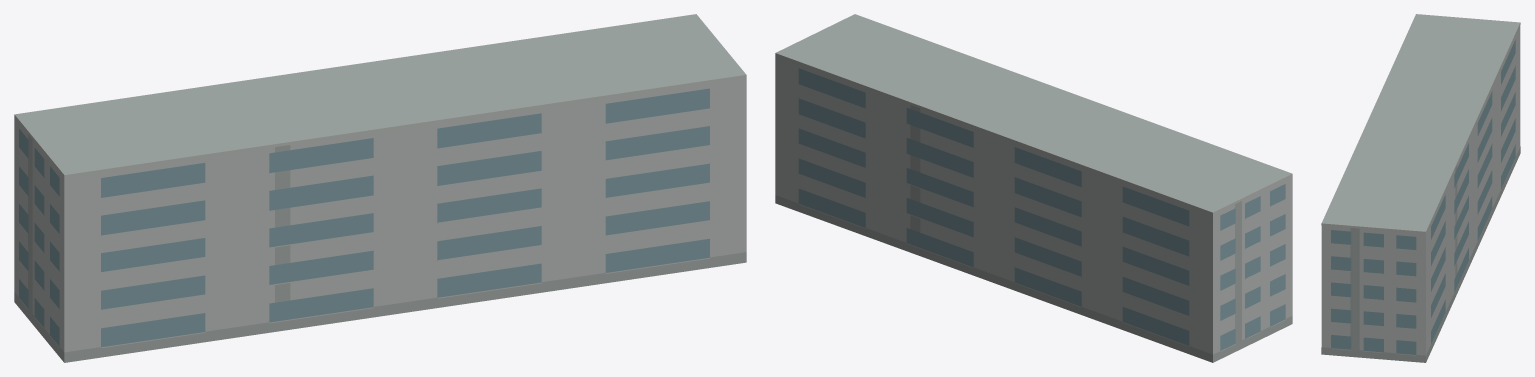
File: residential-4f1dbeb1-ea2e-4d8f-8b2b-309fce45134c.glb
3 views of the same model, side by side, from view 1: azimuth 30°, elevation 25°; view 2: azimuth 150°, elevation 25°; view 3: azimuth 270°, elevation 25° (orthographic). The views are drawn at different scales.
Visible parts, largest first — view 1: residential-4f1dbeb1-ea2e-4d8f-8b2b-309fce45134c.tmp; view 2: residential-4f1dbeb1-ea2e-4d8f-8b2b-309fce45134c.tmp; view 3: residential-4f1dbeb1-ea2e-4d8f-8b2b-309fce45134c.tmp.
Boxes of the visible parts, bbox=[...] form: residential-4f1dbeb1-ea2e-4d8f-8b2b-309fce45134c.tmp: bbox=[14, 14, 746, 362]; residential-4f1dbeb1-ea2e-4d8f-8b2b-309fce45134c.tmp: bbox=[775, 14, 1292, 362]; residential-4f1dbeb1-ea2e-4d8f-8b2b-309fce45134c.tmp: bbox=[1321, 14, 1520, 362].
Size of the model in its own units: 54.33 by 15.25 by 20.98.
